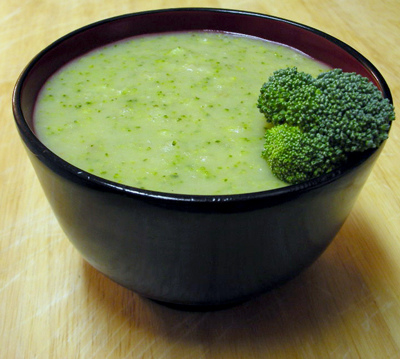broccoli: (257, 64, 396, 180)
